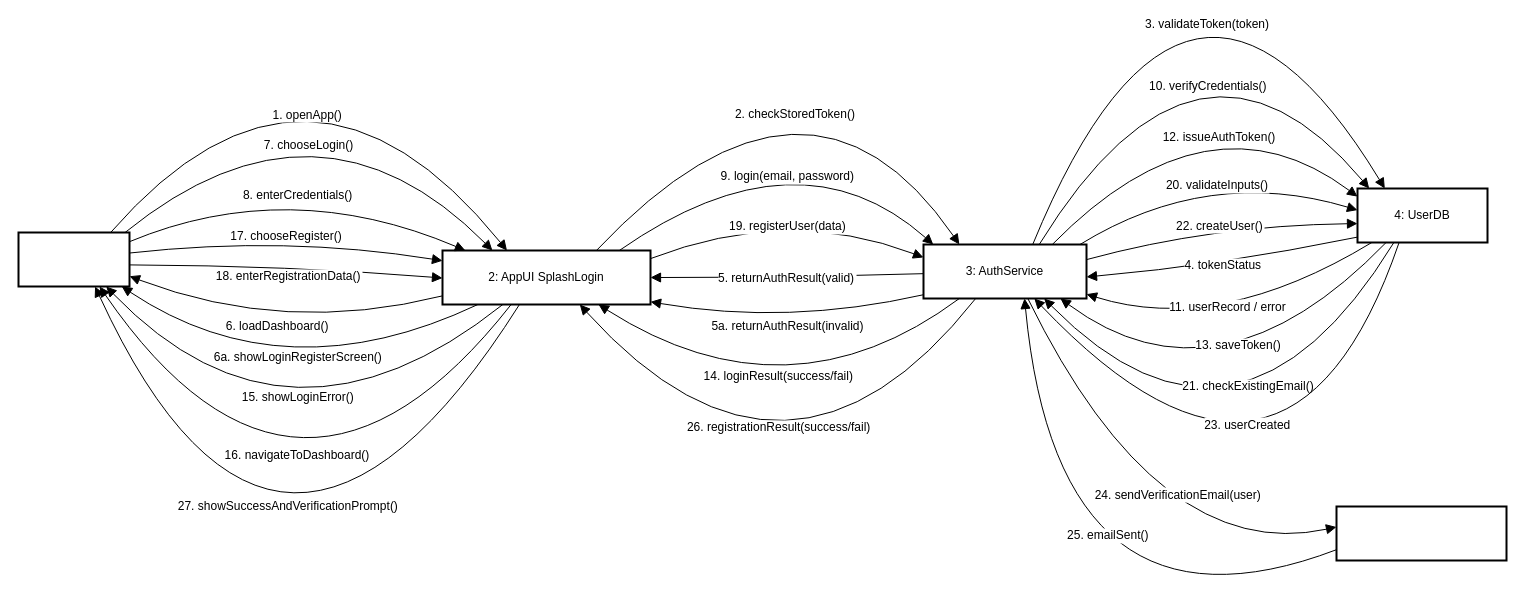
Some shapes in this 1524 by 592 pixel diagram are drawn without their labels. The shapes that lost their labels are listed below. From the top down, each one's box as (x1, y1, x2, y2) in pixels, then its label:
(17, 231, 130, 287): 1: User
(1335, 505, 1507, 561): 5: EmailService
